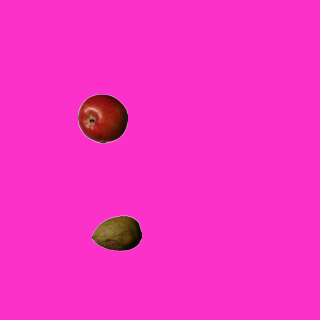Apple Braeburn: (77, 93, 127, 143)
Papaya: (91, 208, 141, 258)
